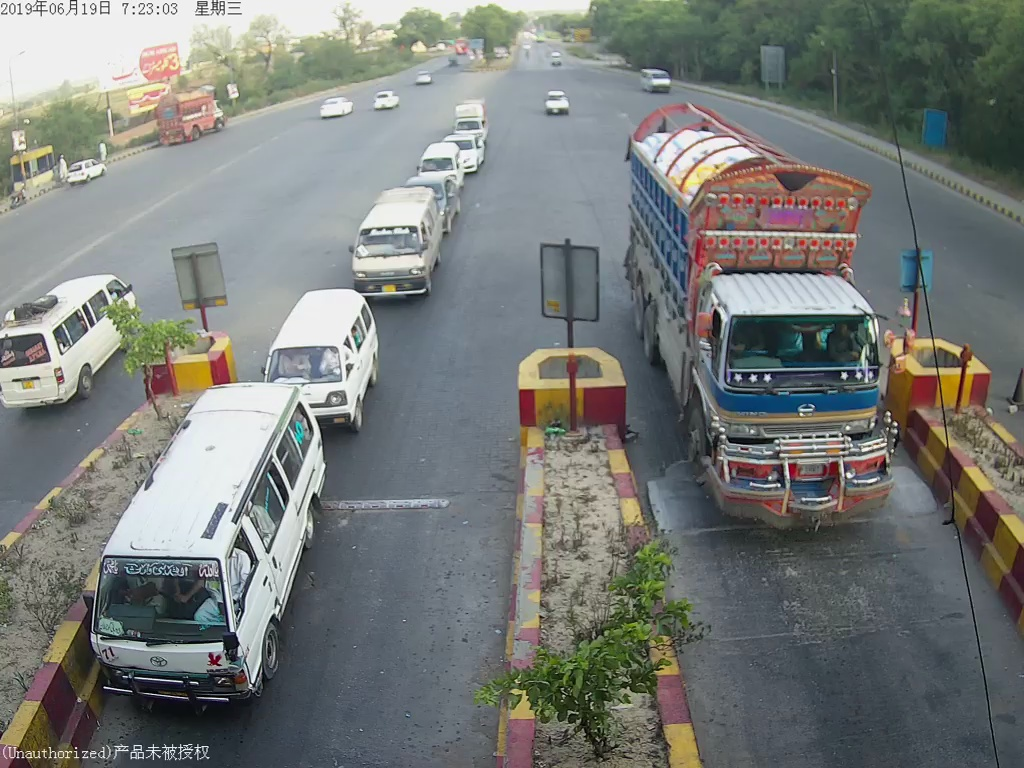Cat-1: (260, 295, 381, 398)
Cat-2: (96, 390, 322, 717), (341, 198, 446, 305)
Cat-4: (615, 109, 927, 524)
